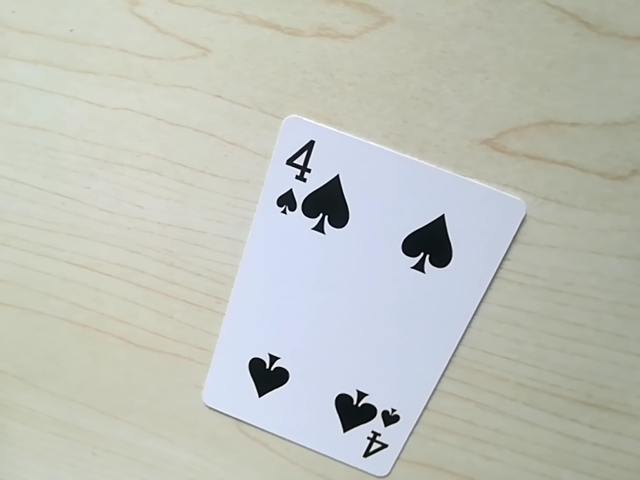ht 4: (265, 129, 332, 228), (348, 401, 403, 467)
